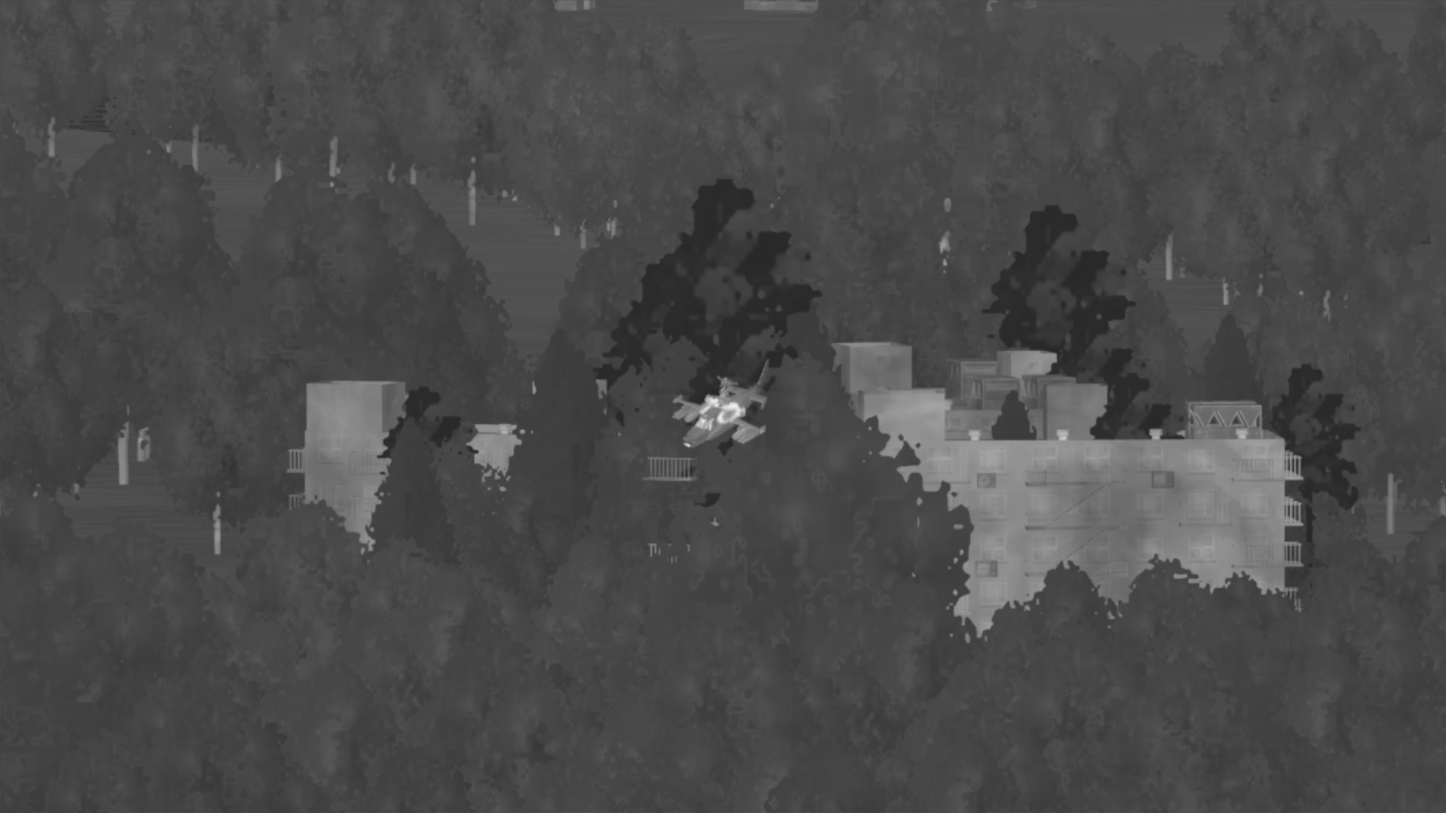ka50: (669, 359, 771, 449)
